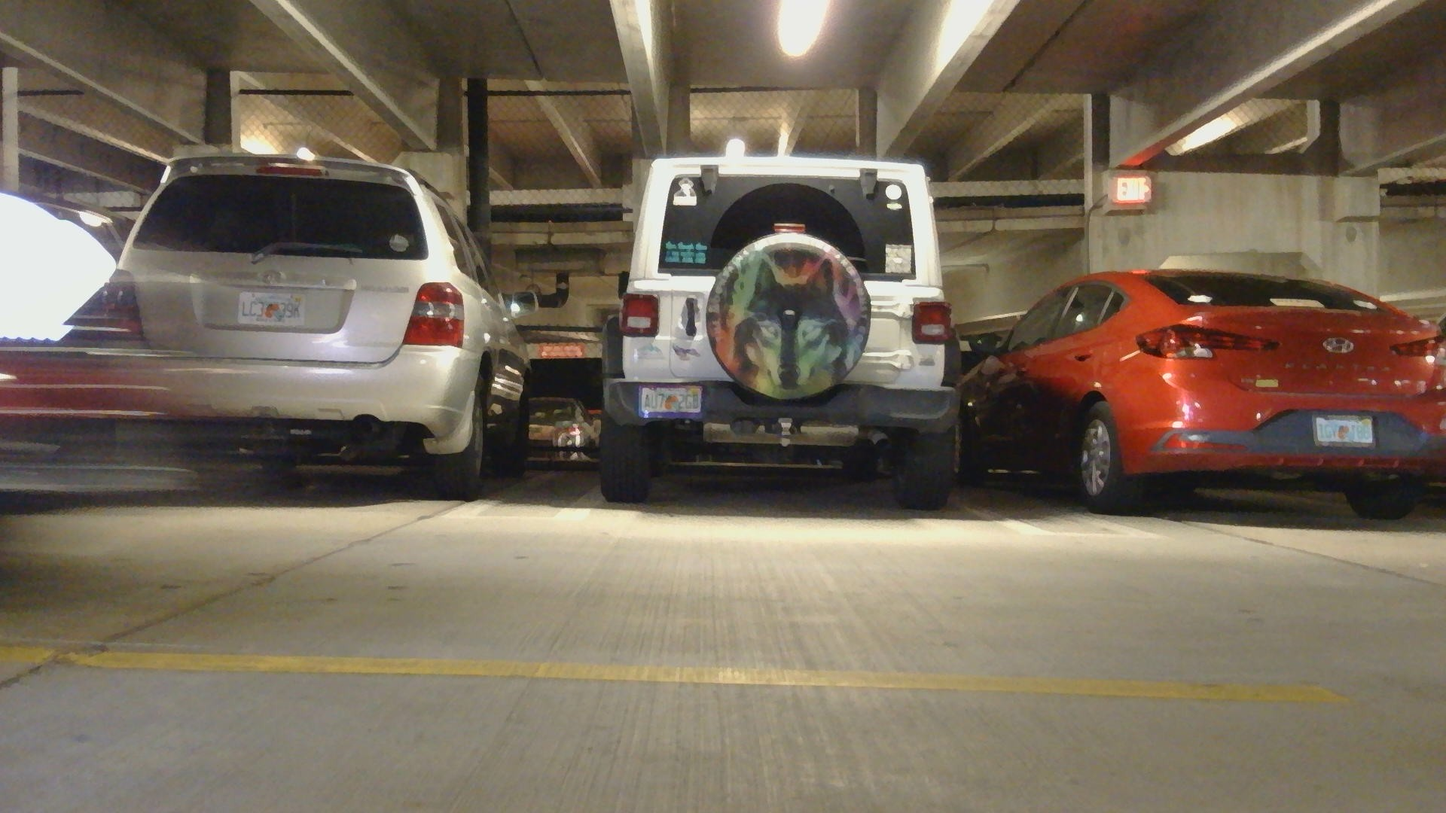occupied_spot: (103, 140, 532, 499), (595, 151, 975, 510), (959, 267, 1446, 522)
